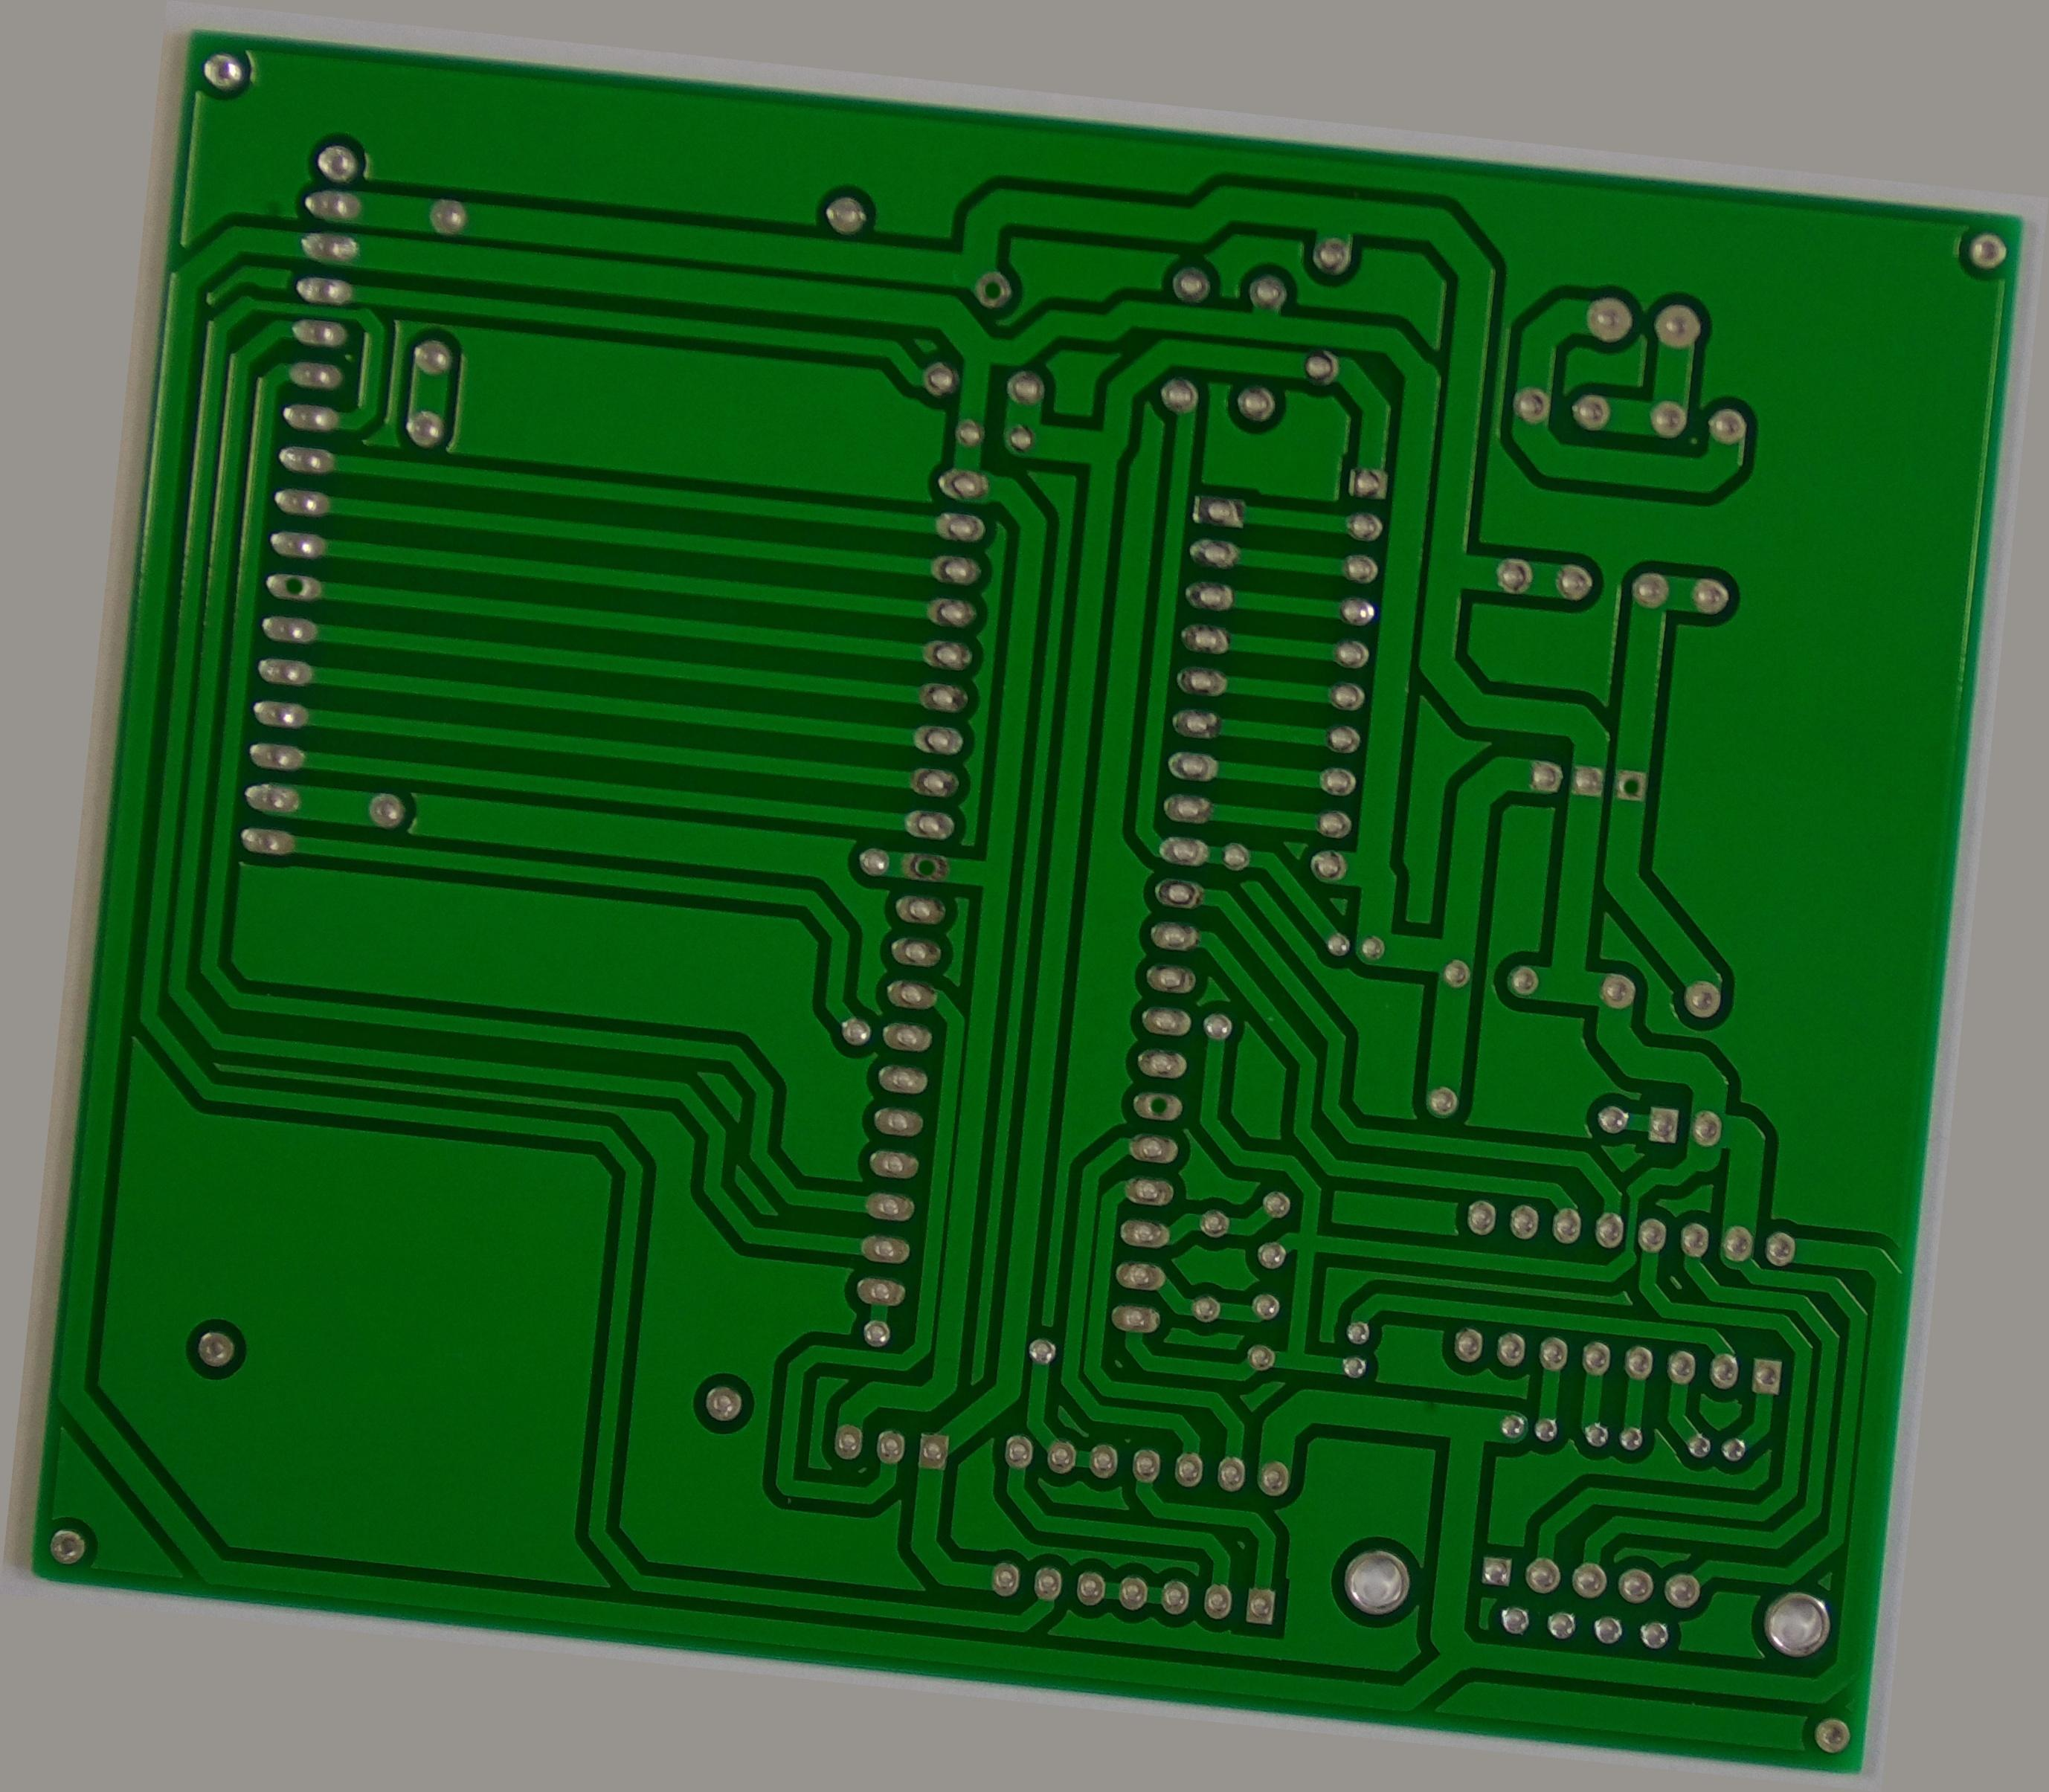missing_hole: (899, 200, 950, 256), (176, 611, 230, 662), (887, 850, 946, 895), (1167, 1095, 1218, 1142), (1650, 681, 1681, 726)
